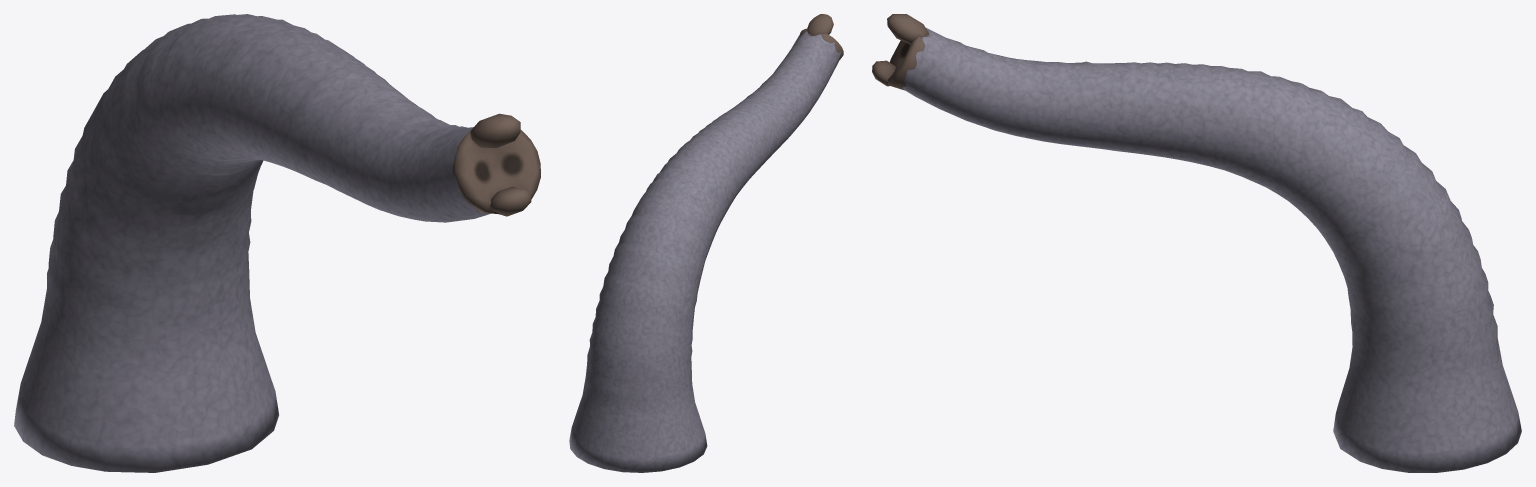
File: cpart_trunk.glb
The picture shows the model from 3 angles, left to right: view 1: azimuth 30°, elevation 25°; view 2: azimuth 150°, elevation 25°; view 3: azimuth 270°, elevation 25°; orthographic projection. The views are drawn at different scales.
Parts seen in each view (by area): view 1: Trunk, TrunkTip; view 2: Trunk, TrunkTip; view 3: Trunk, TrunkTip.
Boxes of the visible parts, left/top/right/bottom form: Trunk: left=14, top=14, right=490, bottom=472; TrunkTip: left=453, top=113, right=540, bottom=216; Trunk: left=569, top=31, right=841, bottom=472; TrunkTip: left=800, top=14, right=843, bottom=60; Trunk: left=902, top=28, right=1521, bottom=472; TrunkTip: left=872, top=14, right=928, bottom=90.
Size of the model in its own units: 0.105 by 0.2452 by 0.3468.
2 materials, 2 textured.
